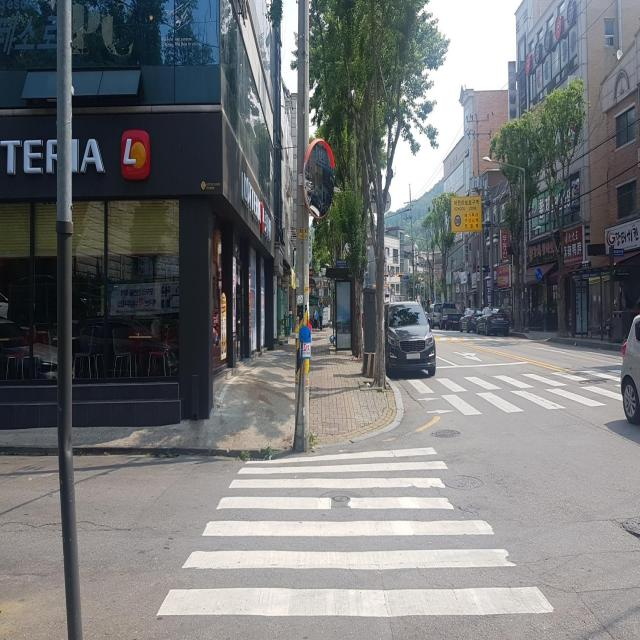횡단보도: (154, 440, 556, 622), (412, 356, 628, 420)
